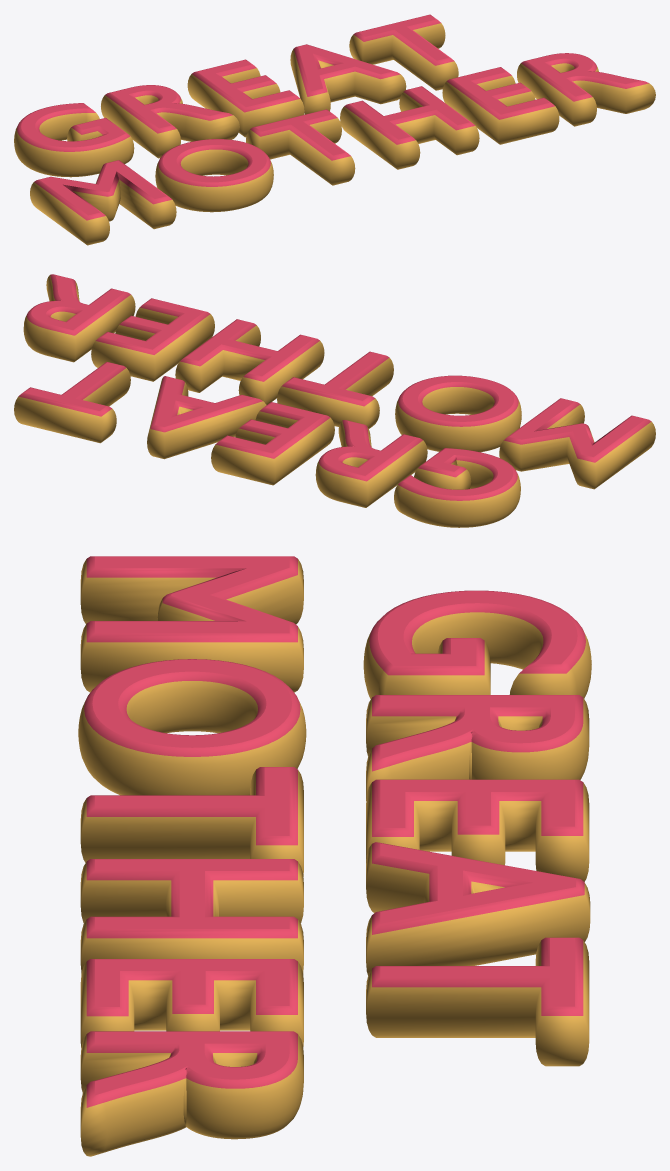
The picture shows the model from 3 angles, top to bottom: view 1: azimuth 30°, elevation 25°; view 2: azimuth 150°, elevation 25°; view 3: azimuth 270°, elevation 25°; orthographic projection. The views are drawn at different scales.
Parts seen in each view (by area): view 1: Text, Text.001; view 2: Text, Text.001; view 3: Text, Text.001.
Part boxes in pixels (bbox=[...]): Text: bbox=[30, 53, 655, 245]; Text.001: bbox=[14, 14, 458, 177]; Text: bbox=[23, 274, 655, 489]; Text.001: bbox=[14, 362, 520, 527]; Text: bbox=[78, 556, 306, 1156]; Text.001: bbox=[363, 590, 591, 1066].
Size of the model in its own units: 462 by 22.89 by 180.
